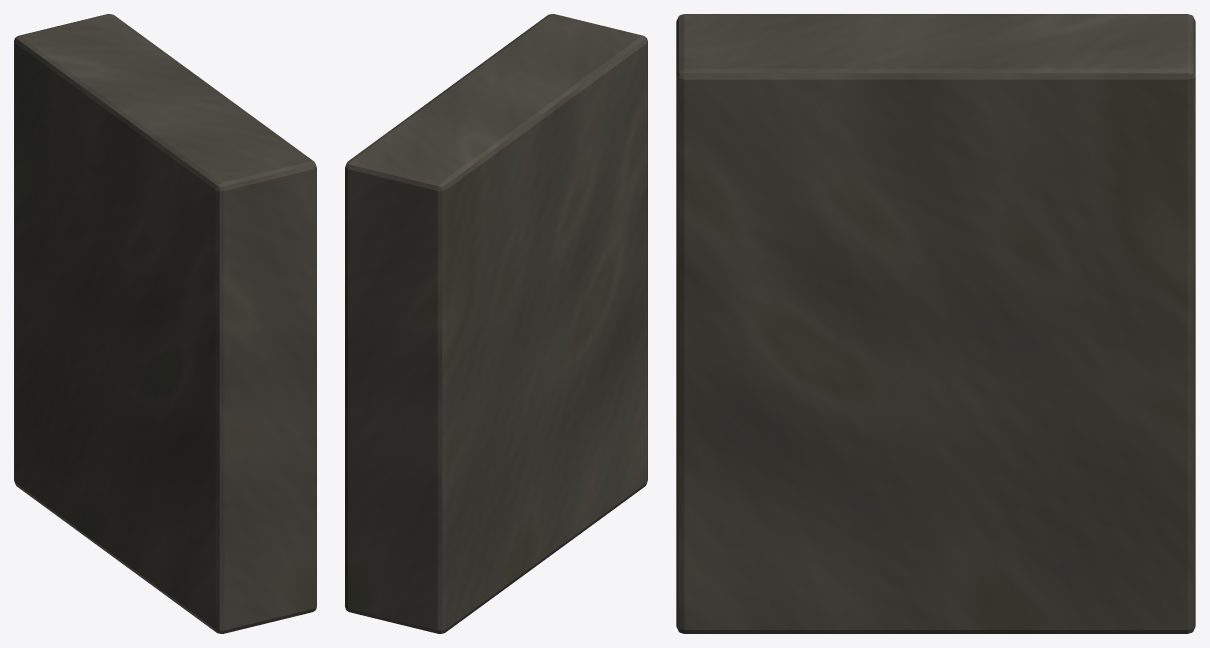
File: lf_stamp-lod1.gltf
3 views of the same model, side by side, from view 1: azimuth 30°, elevation 25°; view 2: azimuth 150°, elevation 25°; view 3: azimuth 270°, elevation 25° (orthographic). The views are drawn at different scales.
Parts seen in each view (by area): view 1: lf_stamp LOD1 lf_stamp; view 2: lf_stamp LOD1 lf_stamp; view 3: lf_stamp LOD1 lf_stamp.
Boxes of the visible parts, box(x1,y1,x2,y2) form: lf_stamp LOD1 lf_stamp: box(14, 14, 316, 633); lf_stamp LOD1 lf_stamp: box(345, 14, 647, 633); lf_stamp LOD1 lf_stamp: box(676, 14, 1195, 633).
Size of the model in its own units: 0.07 by 0.3 by 0.25.
Materials: 1 (1 with a texture image).
